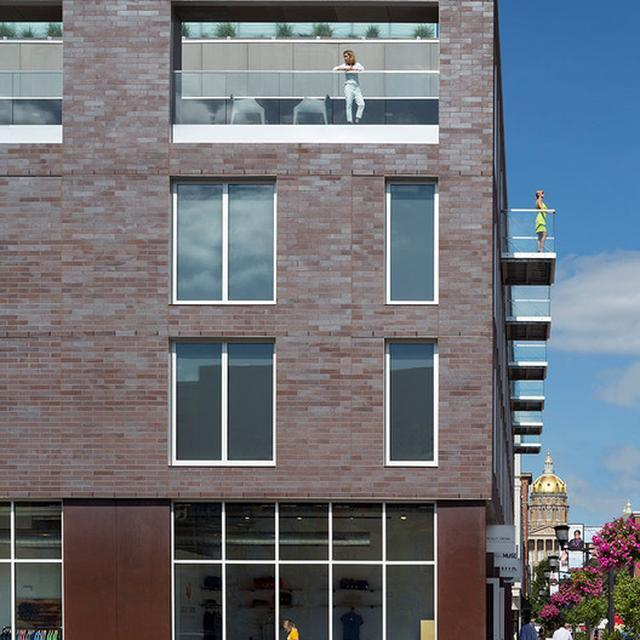building: (0, 0, 522, 640), (523, 440, 577, 572)
